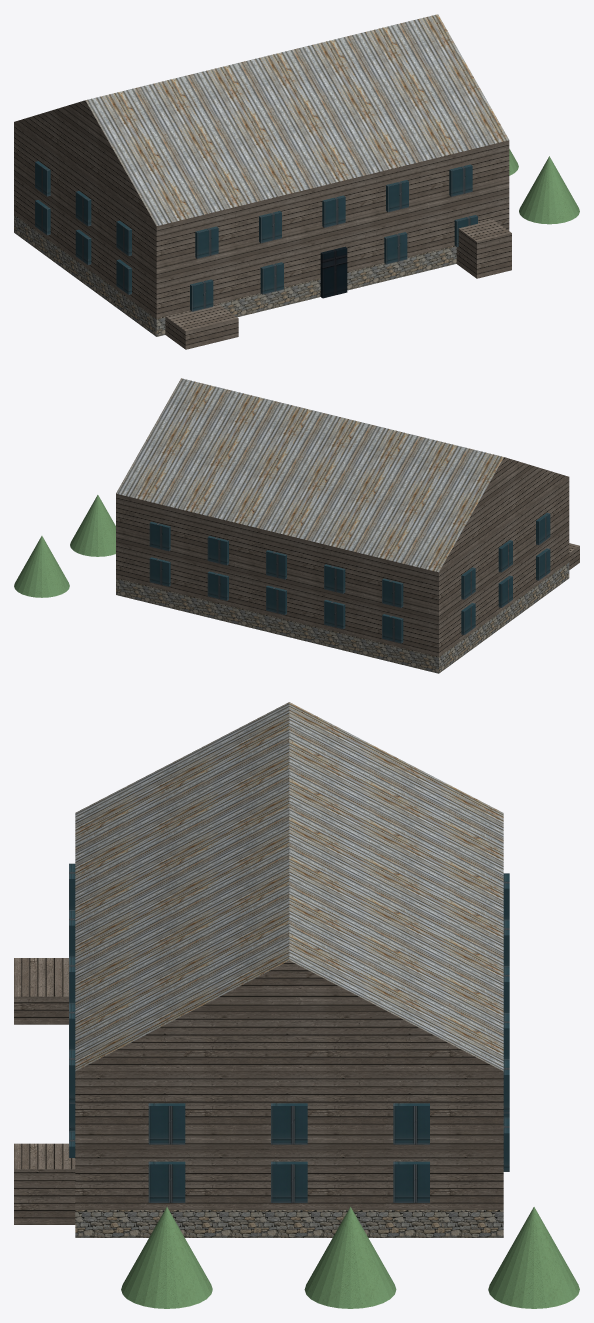
The model's file is cider-mill_lod0.gltf.
The picture shows the model from 3 angles, top to bottom: view 1: azimuth 30°, elevation 25°; view 2: azimuth 150°, elevation 25°; view 3: azimuth 270°, elevation 25°; orthographic projection. The views are drawn at different scales.
Visible parts, largest first — view 1: cider-mill_roof, cider-mill_walls, cider-mill_fen_07-glass-curtain-blue_0, cider-mill_base, cider-mill_gable_ends, cider-mill__cider_press, cider-mill__apple_bins, cider-mill__orchard_tree_a, cider-mill_fen_07-glass-curtain-blue_1_t; view 2: cider-mill_roof, cider-mill_walls, cider-mill_fen_07-glass-curtain-blue_0, cider-mill_base, cider-mill_gable_ends, cider-mill__orchard_tree_c, cider-mill__orchard_tree_b; view 3: cider-mill_roof, cider-mill_walls, cider-mill_gable_ends, cider-mill_fen_07-glass-curtain-blue_0, cider-mill_base, cider-mill__orchard_tree_a, cider-mill__orchard_tree_c, cider-mill__orchard_tree_b, cider-mill__cider_press, cider-mill__apple_bins.
Boxes of the visible parts, x1,y1,x2,y2 form: cider-mill_roof: [85, 14, 508, 225]; cider-mill_walls: [14, 122, 509, 318]; cider-mill_fen_07-glass-curtain-blue_0: [35, 161, 477, 311]; cider-mill_base: [14, 214, 456, 336]; cider-mill_gable_ends: [14, 100, 155, 225]; cider-mill__cider_press: [456, 218, 511, 278]; cider-mill__apple_bins: [165, 303, 238, 349]; cider-mill__orchard_tree_a: [519, 156, 579, 224]; cider-mill_fen_07-glass-curtain-blue_1_t: [320, 246, 347, 298]; cider-mill_roof: [116, 378, 503, 572]; cider-mill_walls: [116, 477, 569, 656]; cider-mill_fen_07-glass-curtain-blue_0: [149, 512, 550, 643]; cider-mill_base: [116, 562, 569, 673]; cider-mill_gable_ends: [439, 457, 568, 571]; cider-mill__orchard_tree_c: [14, 536, 69, 597]; cider-mill__orchard_tree_b: [70, 495, 115, 556]; cider-mill_roof: [75, 702, 503, 1071]; cider-mill_walls: [75, 1071, 503, 1209]; cider-mill_gable_ends: [75, 960, 502, 1071]; cider-mill_fen_07-glass-curtain-blue_0: [69, 863, 509, 1202]; cider-mill_base: [75, 1210, 503, 1237]; cider-mill__orchard_tree_a: [121, 1207, 212, 1308]; cider-mill__orchard_tree_c: [488, 1207, 579, 1308]; cider-mill__orchard_tree_b: [304, 1206, 396, 1308]; cider-mill__cider_press: [14, 1143, 75, 1224]; cider-mill__apple_bins: [14, 958, 68, 1024].
Bounding box in the file's own units: 25.7 × 10 × 18.5.
